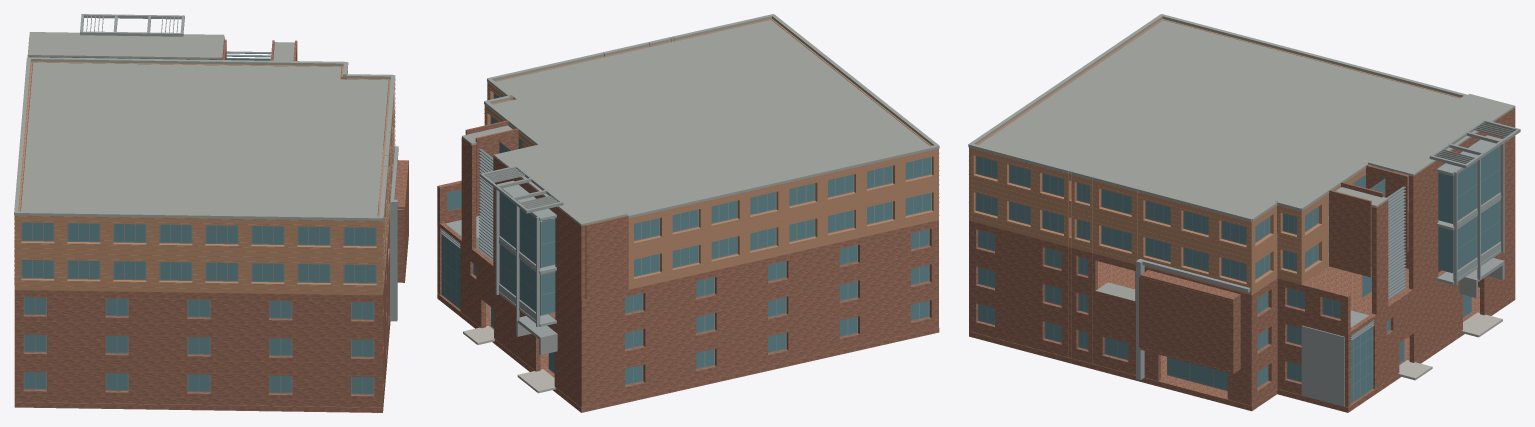
The picture shows the model from 3 angles, left to right: view 1: azimuth 30°, elevation 25°; view 2: azimuth 150°, elevation 25°; view 3: azimuth 270°, elevation 25°; orthographic projection. The views are drawn at different scales.
Parts seen in each view (by area): view 1: centennial__roof, centennial__brick, centennial__tile, centennial__glass, centennial__joint, centennial__frame, centennial__canopy, centennial__bay-frame; view 2: centennial__roof, centennial__brick, centennial__glass, centennial__tile, centennial__frame, centennial__joint, centennial__bay-frame, centennial__canopy, centennial__louver, centennial__threshold-entry; view 3: centennial__roof, centennial__brick, centennial__glass, centennial__tile, centennial__bay-frame, centennial__frame, centennial__joint, centennial__canopy, centennial__louver, centennial__threshold-entry.
Boxes of the visible parts, x1,y1,x2,y2 form: centennial__roof: (14,32,395,258); centennial__brick: (14,37,408,412); centennial__tile: (14,61,394,295); centennial__glass: (22,57,387,393); centennial__joint: (14,70,395,291); centennial__frame: (21,58,376,394); centennial__canopy: (80,14,184,36); centennial__bay-frame: (378,146,398,321); centennial__roof: (462,14,939,225); centennial__brick: (437,120,939,412); centennial__glass: (441,94,930,384); centennial__tile: (484,18,938,289); centennial__frame: (441,93,931,385); centennial__joint: (484,82,939,285); centennial__bay-frame: (445,180,556,327); centennial__canopy: (480,165,563,354); centennial__louver: (440,148,493,258); centennial__threshold-entry: (463,325,555,393); centennial__roof: (968,14,1515,300); centennial__brick: (969,108,1515,412); centennial__glass: (976,146,1499,402); centennial__tile: (969,19,1464,295); centennial__bay-frame: (1136,135,1504,406); centennial__frame: (975,146,1500,403); centennial__joint: (968,148,1408,290); centennial__canopy: (1429,119,1520,297); centennial__louver: (1350,186,1406,340); centennial__threshold-entry: (1398,312,1502,380).
Size of the model in its own units: 41.04 by 18.18 by 46.18.
10 materials, 1 textured.
